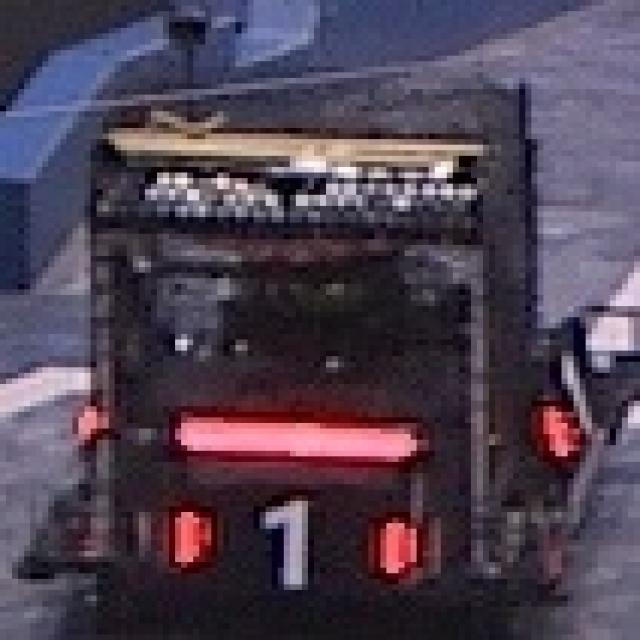R1: (169, 490, 411, 590)
